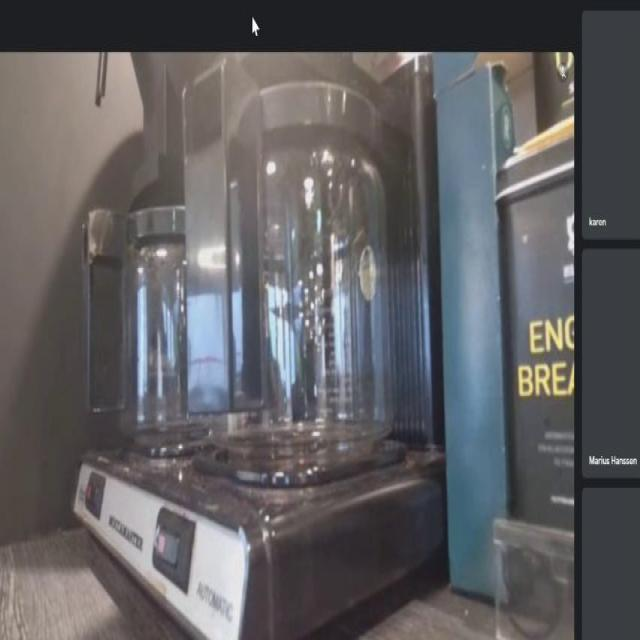nocoffee: (184, 89, 408, 481), (60, 167, 233, 471)
